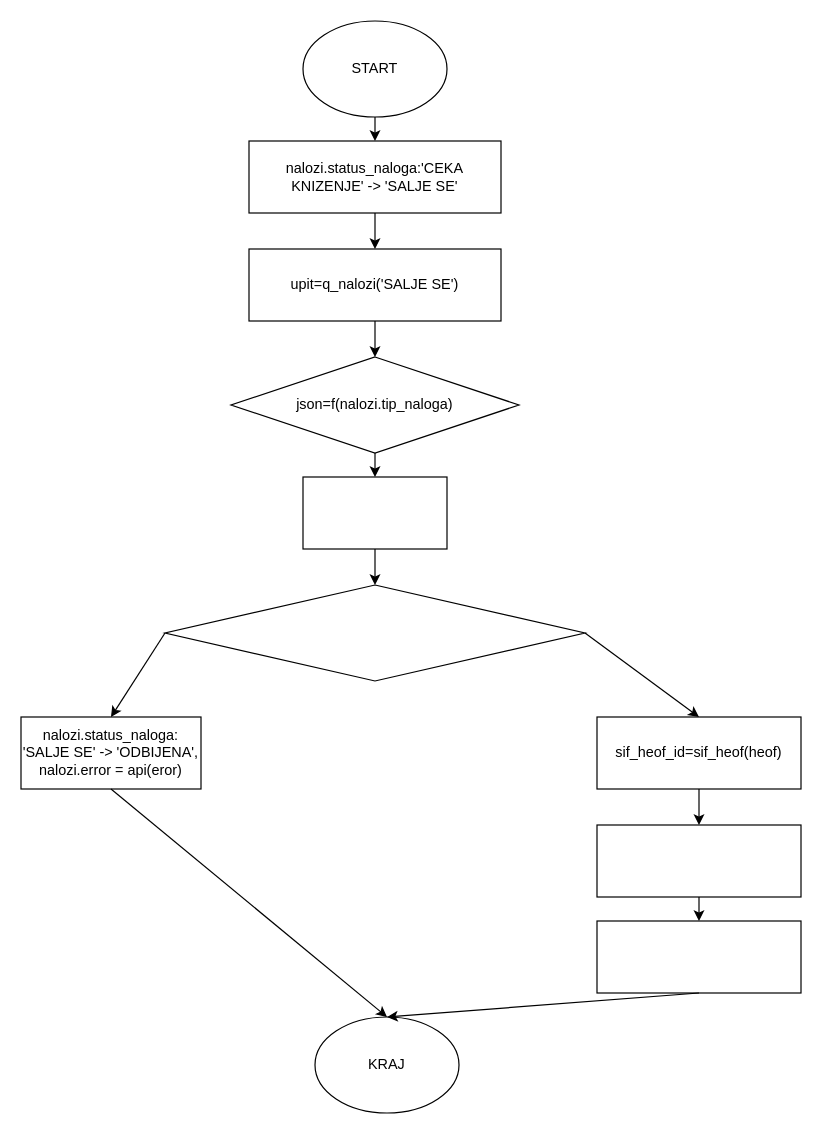
This 822x1134 diagram has some shape labels left out. The shapes that lost their labels are listed below. From the top down, each one's box as (x1, y1, x2, y2) in pixels, then its label:
(302, 476, 447, 549): API
(164, 584, 585, 681): uspesno
(596, 824, 801, 897): insert(isplate)
(596, 920, 801, 993): nalozi.status_naloga: 'SALJE SE' -> 'PROKNJZENA'
